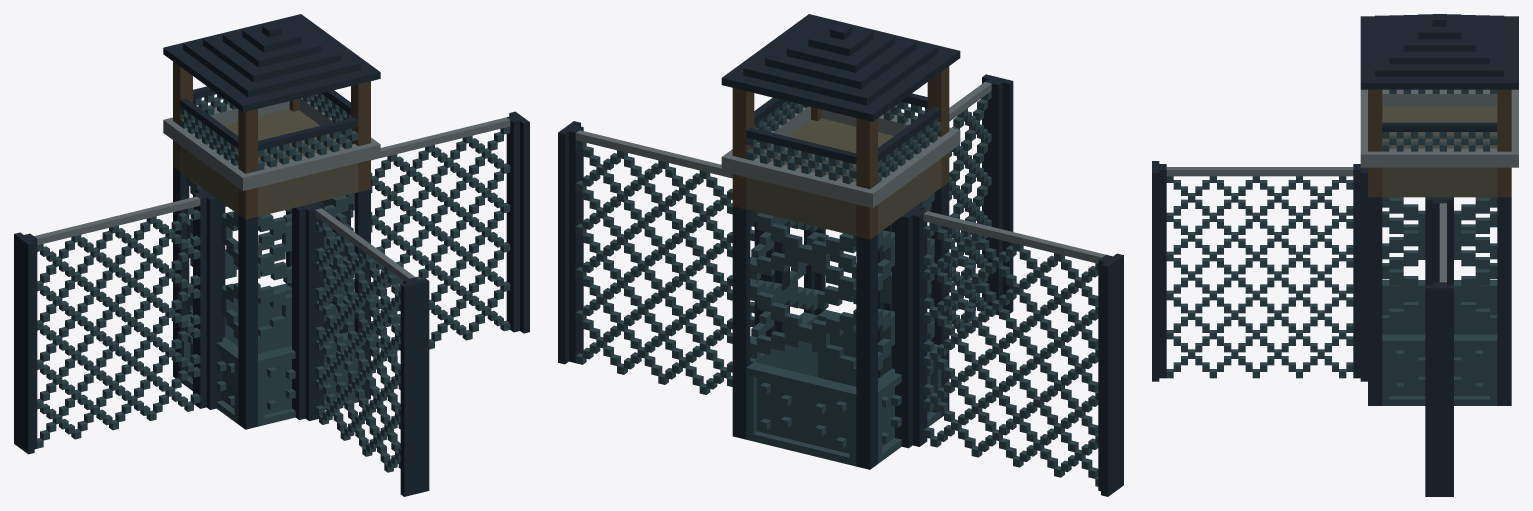
The model's file is wall3_t.obj.
3 renders of one model, left to right at view 1: azimuth 30°, elevation 25°; view 2: azimuth 150°, elevation 25°; view 3: azimuth 270°, elevation 25°, orthographic. The views are drawn at different scales.
Bounding box in the file's own units: 8 × 5.5 × 5.1.
Materials: 1 (1 with a texture image).
